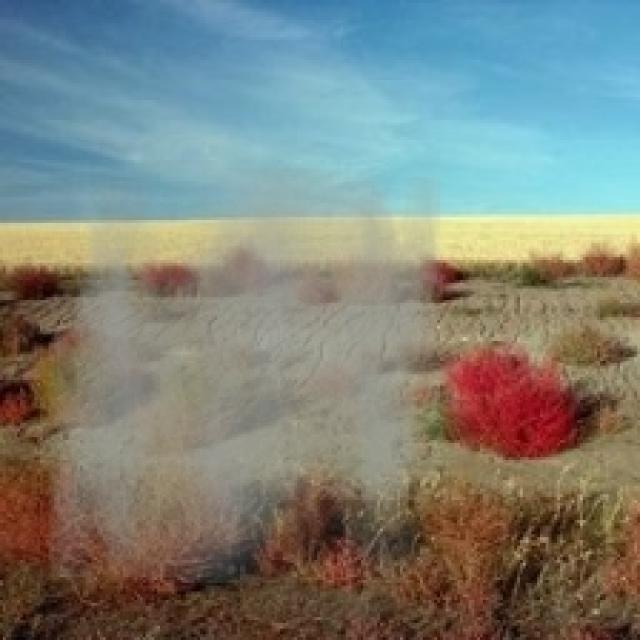smoke: (48, 168, 443, 583)
